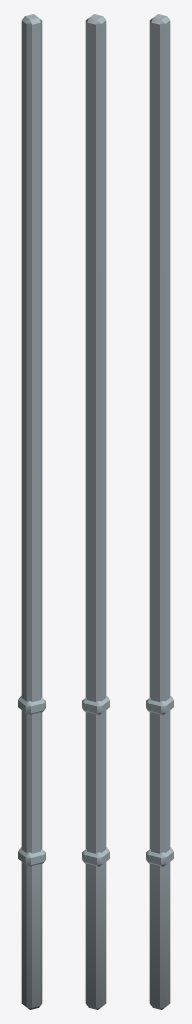
File: pendulum_rod.glb
3 views of the same model, side by side, from view 1: azimuth 30°, elevation 25°; view 2: azimuth 150°, elevation 25°; view 3: azimuth 330°, elevation 25° (orthographic).
Parts seen in each view (by area): view 1: pendulum_rod; view 2: pendulum_rod; view 3: pendulum_rod.
Part boxes in pixels (x1,y1,x2,y2): pendulum_rod: [18, 14, 45, 1009]; pendulum_rod: [82, 14, 109, 1009]; pendulum_rod: [146, 14, 173, 1009].
Size of the model in its own units: 0.21 by 9.8 by 0.21.
Materials: 1 (1 with a texture image).
